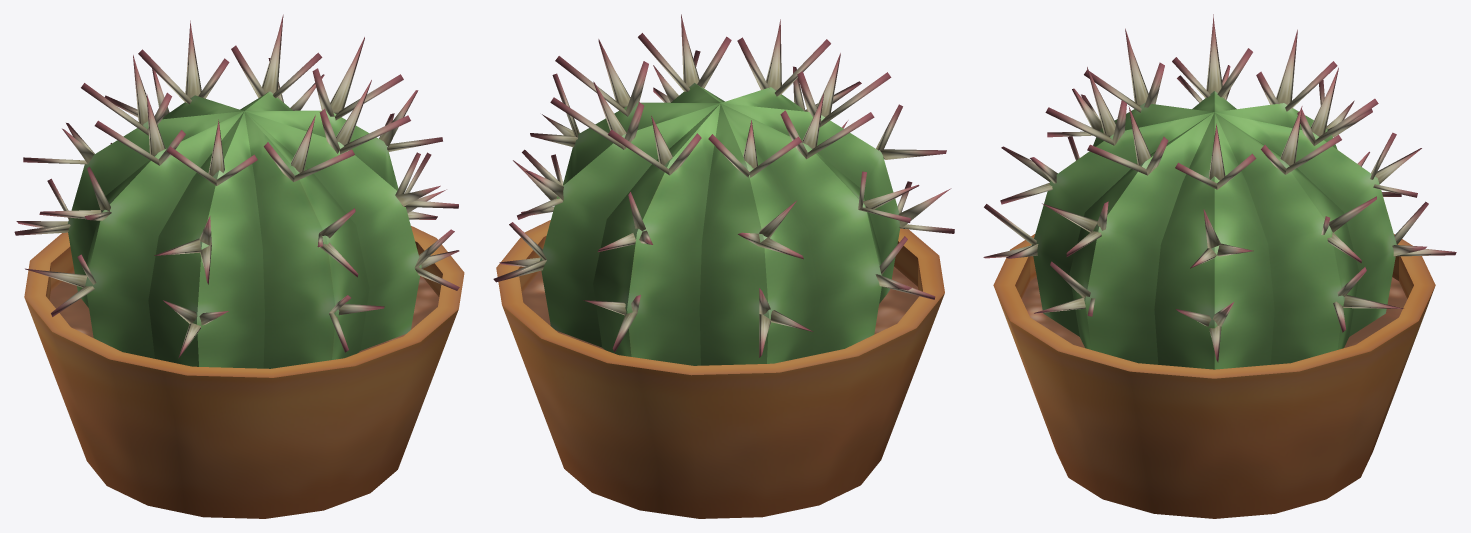
File: Cactipotted_HD.fbx
3 views of the same model, side by side, from view 1: azimuth 30°, elevation 25°; view 2: azimuth 150°, elevation 25°; view 3: azimuth 270°, elevation 25° (orthographic). The views are drawn at different scales.
Visible parts, largest first — view 1: Cactipotted; view 2: Cactipotted; view 3: Cactipotted.
Part boxes in pixels (x1,y1,x2,y2): Cactipotted: (14,14,464,518); Cactipotted: (493,14,954,518); Cactipotted: (983,14,1456,518).
Bounding box in the file's own units: 0.3392 × 0.2988 × 0.3496.
